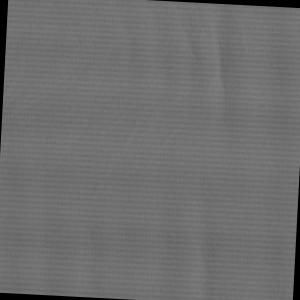Wrinkle: (30, 192, 226, 300), (96, 1, 250, 136)
